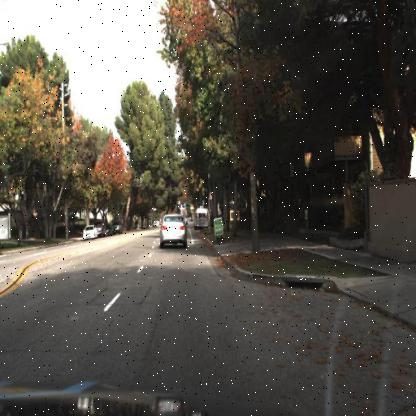car: (154, 203, 190, 252), (79, 221, 100, 242), (111, 218, 125, 237)
